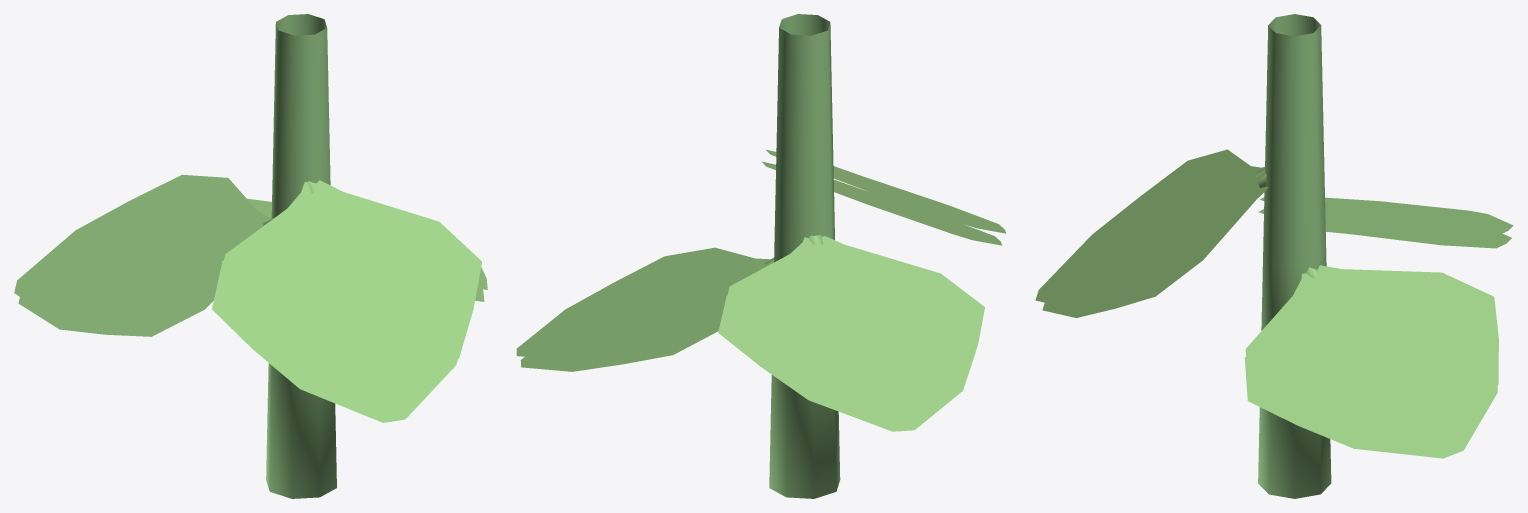
File: stem.glb
The picture shows the model from 3 angles, left to right: view 1: azimuth 30°, elevation 25°; view 2: azimuth 150°, elevation 25°; view 3: azimuth 270°, elevation 25°; orthographic projection.
Parts seen in each view (by area): view 1: 茎; view 2: 茎; view 3: 茎.
Part boxes in pixels (x1,y1,x2,y2): 茎: [14, 14, 487, 498]; 茎: [516, 14, 1006, 498]; 茎: [1035, 14, 1513, 498].
Bounding box in the file's own units: 0.7607 × 0.8 × 0.7565.
